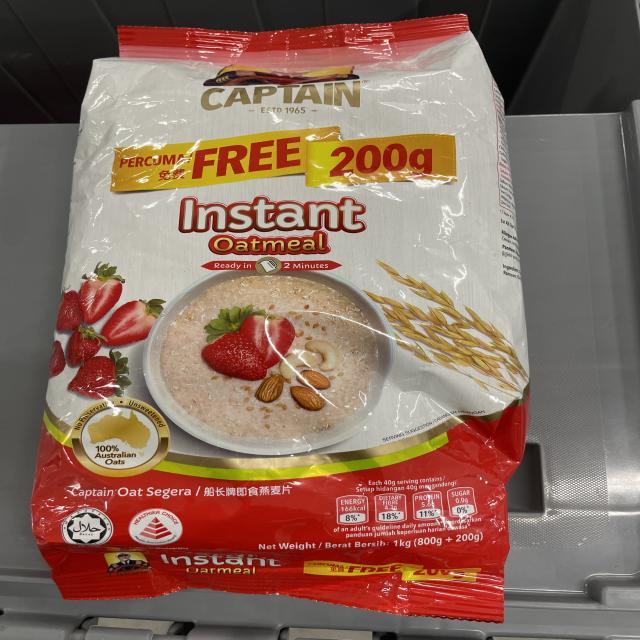object_name: (87, 52, 497, 607)
